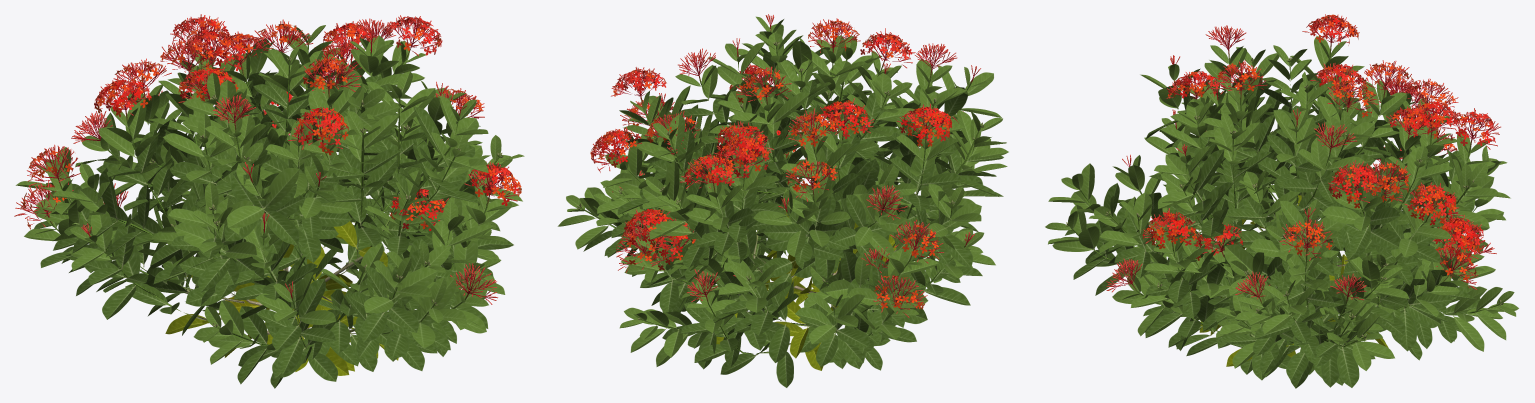
The model's file is geranium2.glb.
3 views of the same model, side by side, from view 1: azimuth 30°, elevation 25°; view 2: azimuth 150°, elevation 25°; view 3: azimuth 270°, elevation 25° (orthographic). The views are drawn at different scales.
Parts seen in each view (by area): view 1: Ixora_chinensis_red_HD_Ixora leaf 01a_0, Ixora_chinensis_red_HD_Ixora leaf 01d_0, Ixora_chinensis_red_HD_Ixora tube_0, Ixora_chinensis_red_HD_Ixora flower 02_0, Ixora_chinensis_red_HD_Ixora flower 01_0, Ixora_chinensis_red_HD_Ixora leaf 01e_0, Ixora_chinensis_red_HD_Ixora flower 03_0, Ixora_chinensis_red_HD_Ixora twig_0, Ixora_chinensis_red_HD_Ixora flower stalk 2_0, Ixora_chinensis_red_HD_Ixora branches_0, Ixora_chinensis_red_HD_Ixora bud_0; view 2: Ixora_chinensis_red_HD_Ixora leaf 01a_0, Ixora_chinensis_red_HD_Ixora leaf 01d_0, Ixora_chinensis_red_HD_Ixora tube_0, Ixora_chinensis_red_HD_Ixora flower 02_0, Ixora_chinensis_red_HD_Ixora flower 01_0, Ixora_chinensis_red_HD_Ixora flower 03_0, Ixora_chinensis_red_HD_Ixora leaf 01e_0, Ixora_chinensis_red_HD_Ixora twig_0, Ixora_chinensis_red_HD_Ixora flower stalk 2_0, Ixora_chinensis_red_HD_Ixora branches_0, Ixora_chinensis_red_HD_Ixora leaf 01b_0; view 3: Ixora_chinensis_red_HD_Ixora leaf 01a_0, Ixora_chinensis_red_HD_Ixora leaf 01d_0, Ixora_chinensis_red_HD_Ixora tube_0, Ixora_chinensis_red_HD_Ixora flower 02_0, Ixora_chinensis_red_HD_Ixora flower 01_0, Ixora_chinensis_red_HD_Ixora flower 03_0, Ixora_chinensis_red_HD_Ixora twig_0, Ixora_chinensis_red_HD_Ixora flower stalk 2_0, Ixora_chinensis_red_HD_Ixora leaf 01e_0, Ixora_chinensis_red_HD_Ixora bud_0, Ixora_chinensis_red_HD_Ixora flower stalk 1_0.
Part boxes in pixels (box(x1,y1,x2,y2)): Ixora_chinensis_red_HD_Ixora leaf 01a_0: box(16, 25, 524, 364); Ixora_chinensis_red_HD_Ixora leaf 01d_0: box(34, 63, 513, 388); Ixora_chinensis_red_HD_Ixora tube_0: box(14, 14, 519, 304); Ixora_chinensis_red_HD_Ixora flower 02_0: box(20, 17, 521, 229); Ixora_chinensis_red_HD_Ixora flower 01_0: box(94, 16, 510, 229); Ixora_chinensis_red_HD_Ixora leaf 01e_0: box(165, 221, 398, 375); Ixora_chinensis_red_HD_Ixora flower 03_0: box(94, 17, 521, 230); Ixora_chinensis_red_HD_Ixora twig_0: box(53, 39, 498, 345); Ixora_chinensis_red_HD_Ixora flower stalk 2_0: box(30, 30, 505, 296); Ixora_chinensis_red_HD_Ixora branches_0: box(121, 132, 434, 348); Ixora_chinensis_red_HD_Ixora bud_0: box(149, 33, 503, 327); Ixora_chinensis_red_HD_Ixora leaf 01a_0: box(557, 16, 1008, 366); Ixora_chinensis_red_HD_Ixora leaf 01d_0: box(583, 52, 1003, 387); Ixora_chinensis_red_HD_Ixora tube_0: box(592, 14, 980, 317); Ixora_chinensis_red_HD_Ixora flower 02_0: box(590, 20, 951, 309); Ixora_chinensis_red_HD_Ixora flower 01_0: box(591, 34, 945, 270); Ixora_chinensis_red_HD_Ixora flower 03_0: box(591, 33, 951, 264); Ixora_chinensis_red_HD_Ixora leaf 01e_0: box(716, 211, 896, 370); Ixora_chinensis_red_HD_Ixora twig_0: box(581, 32, 980, 339); Ixora_chinensis_red_HD_Ixora flower stalk 2_0: box(602, 26, 973, 308); Ixora_chinensis_red_HD_Ixora branches_0: box(685, 123, 930, 353); Ixora_chinensis_red_HD_Ixora leaf 01b_0: box(795, 307, 831, 325); Ixora_chinensis_red_HD_Ixora leaf 01a_0: box(1045, 36, 1518, 370); Ixora_chinensis_red_HD_Ixora leaf 01d_0: box(1065, 74, 1489, 388); Ixora_chinensis_red_HD_Ixora tube_0: box(1106, 14, 1500, 300); Ixora_chinensis_red_HD_Ixora flower 02_0: box(1144, 14, 1492, 281); Ixora_chinensis_red_HD_Ixora flower 01_0: box(1154, 16, 1493, 257); Ixora_chinensis_red_HD_Ixora flower 03_0: box(1142, 15, 1495, 260); Ixora_chinensis_red_HD_Ixora twig_0: box(1070, 54, 1499, 347); Ixora_chinensis_red_HD_Ixora flower stalk 2_0: box(1116, 26, 1489, 297); Ixora_chinensis_red_HD_Ixora leaf 01e_0: box(1199, 195, 1388, 366); Ixora_chinensis_red_HD_Ixora bud_0: box(1065, 57, 1503, 340); Ixora_chinensis_red_HD_Ixora flower stalk 1_0: box(1129, 38, 1472, 304).
Size of the model in its own units: 1.22 by 0.8614 by 1.24.
14 materials, 14 textured.
